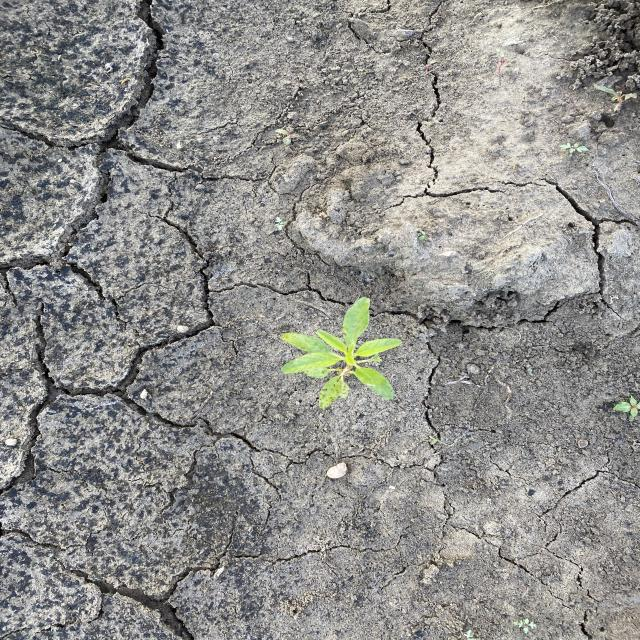Waterhemp: (278, 296, 405, 412)
